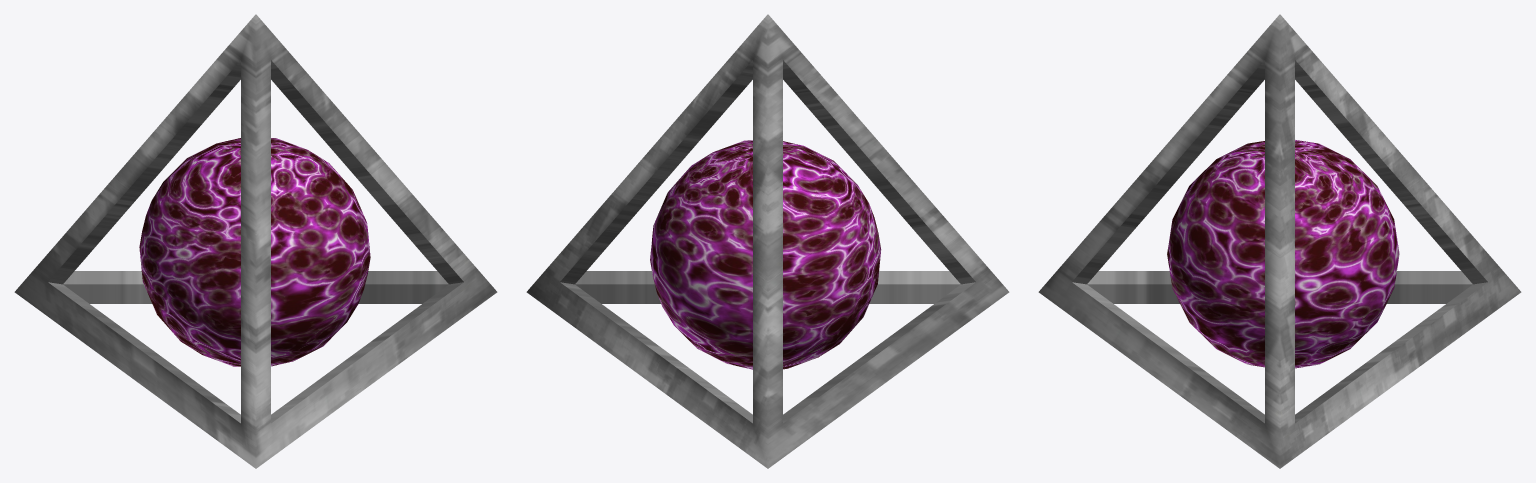
The picture shows the model from 3 angles, left to right: view 1: azimuth 30°, elevation 25°; view 2: azimuth 150°, elevation 25°; view 3: azimuth 270°, elevation 25°; orthographic projection.
Visible parts, largest first — view 1: Cone002, GeoSphere001; view 2: Cone002, GeoSphere001; view 3: Cone002, GeoSphere001.
Part boxes in pixels (x1,y1,x2,y2): Cone002: [14, 14, 497, 468]; GeoSphere001: [139, 138, 370, 366]; Cone002: [526, 14, 1009, 468]; GeoSphere001: [650, 140, 881, 369]; Cone002: [1038, 14, 1521, 468]; GeoSphere001: [1167, 140, 1399, 368].
Bounding box in the file's own units: 72 × 65.52 × 83.14.
